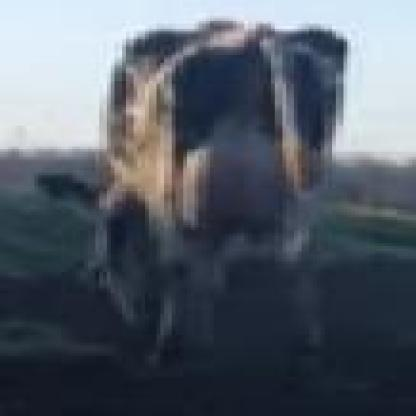cow: (34, 18, 351, 369)
